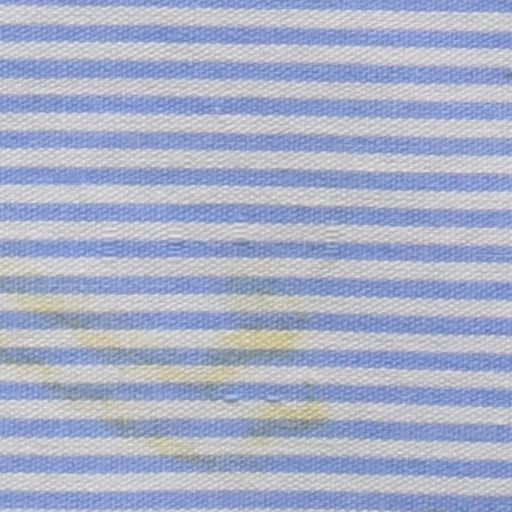defect: (103, 320, 263, 394), (255, 398, 315, 435)
